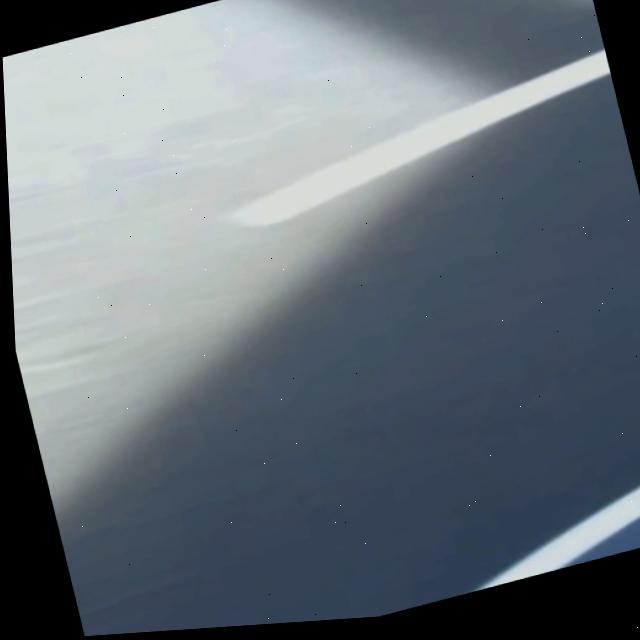center: (230, 49, 611, 226)
left: (473, 487, 640, 592)
